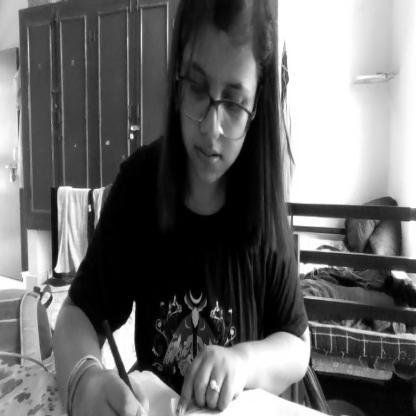Normal: (173, 0, 267, 193)
